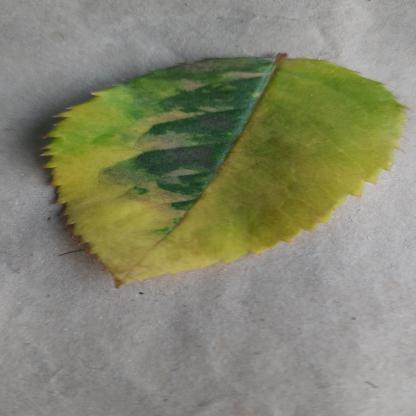black-spot: (35, 52, 402, 288)
